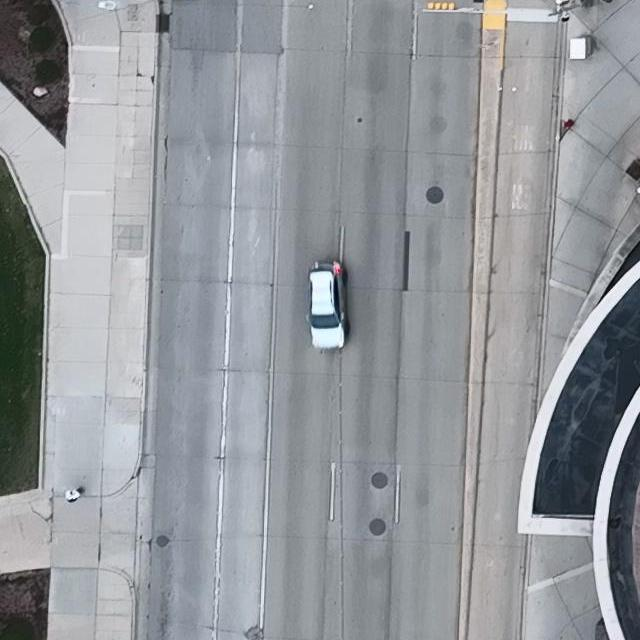car: (305, 259, 348, 349)
